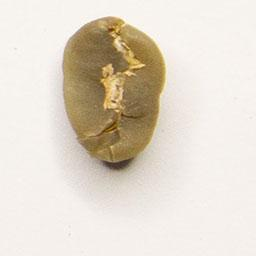premium: (58, 13, 169, 168)
